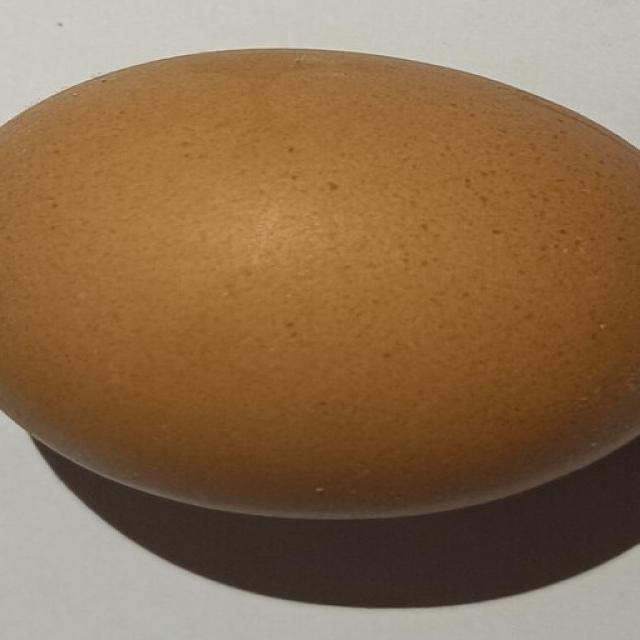unfresh: (0, 48, 640, 512)
